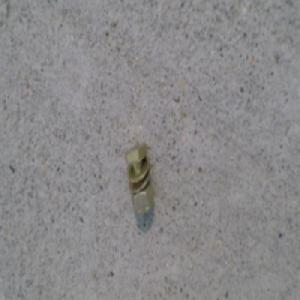BoltNutSet: (125, 141, 155, 213)
